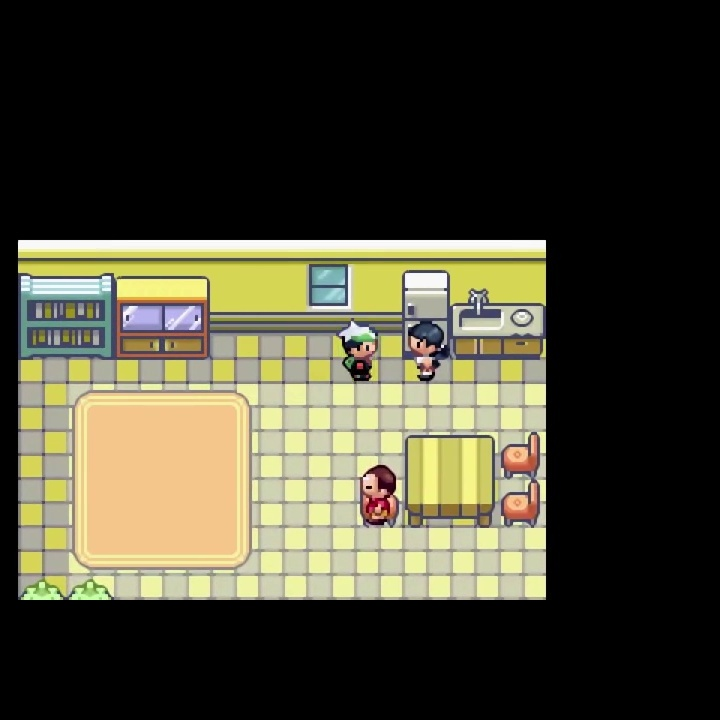agent: (336, 318, 382, 384)
npc: (407, 317, 447, 386), (359, 463, 398, 529)
